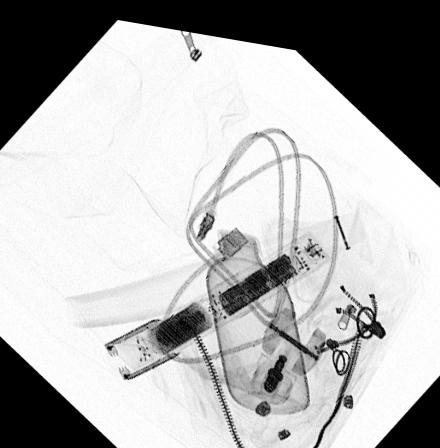Baton: (102, 217, 332, 377)
